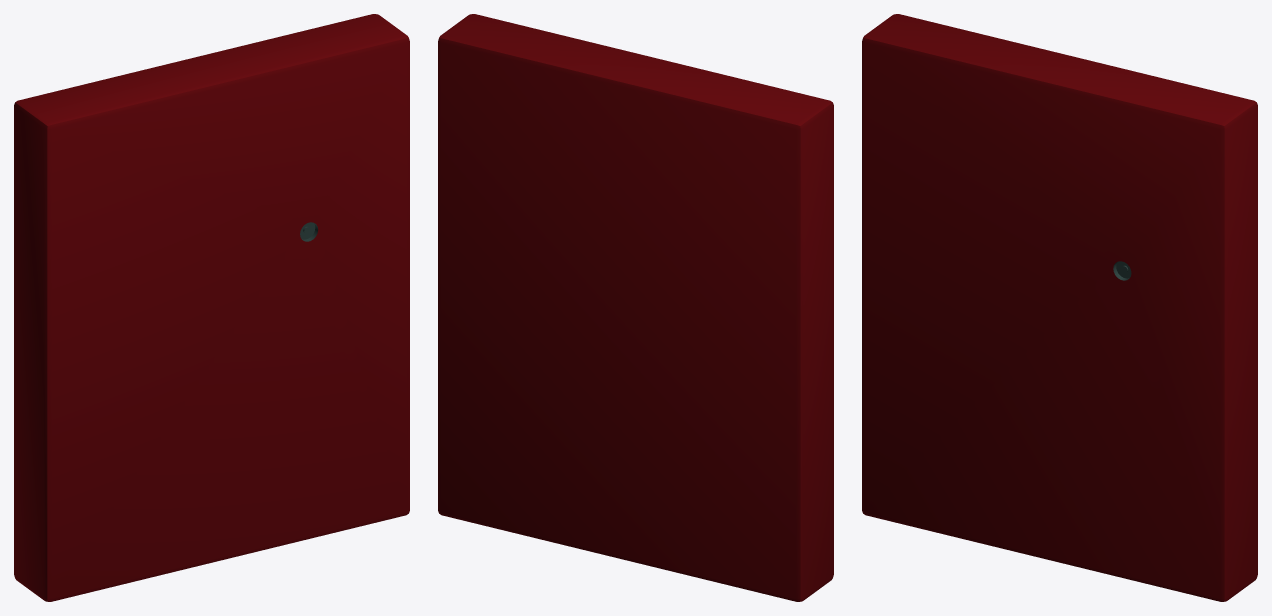
Rendered from boitier electrique.FBX.
3 views of the same model, side by side, from view 1: azimuth 30°, elevation 25°; view 2: azimuth 150°, elevation 25°; view 3: azimuth 330°, elevation 25° (orthographic).
Visible parts, largest first — view 1: Boitier elctrique; view 2: Boitier elctrique; view 3: Boitier elctrique.
Boxes of the visible parts, x1,y1,x2,y2 form: Boitier elctrique: [14, 14, 409, 601]; Boitier elctrique: [438, 14, 833, 601]; Boitier elctrique: [862, 14, 1257, 601].
Bounding box in the file's own units: 73.82 × 92.65 × 12.16.
